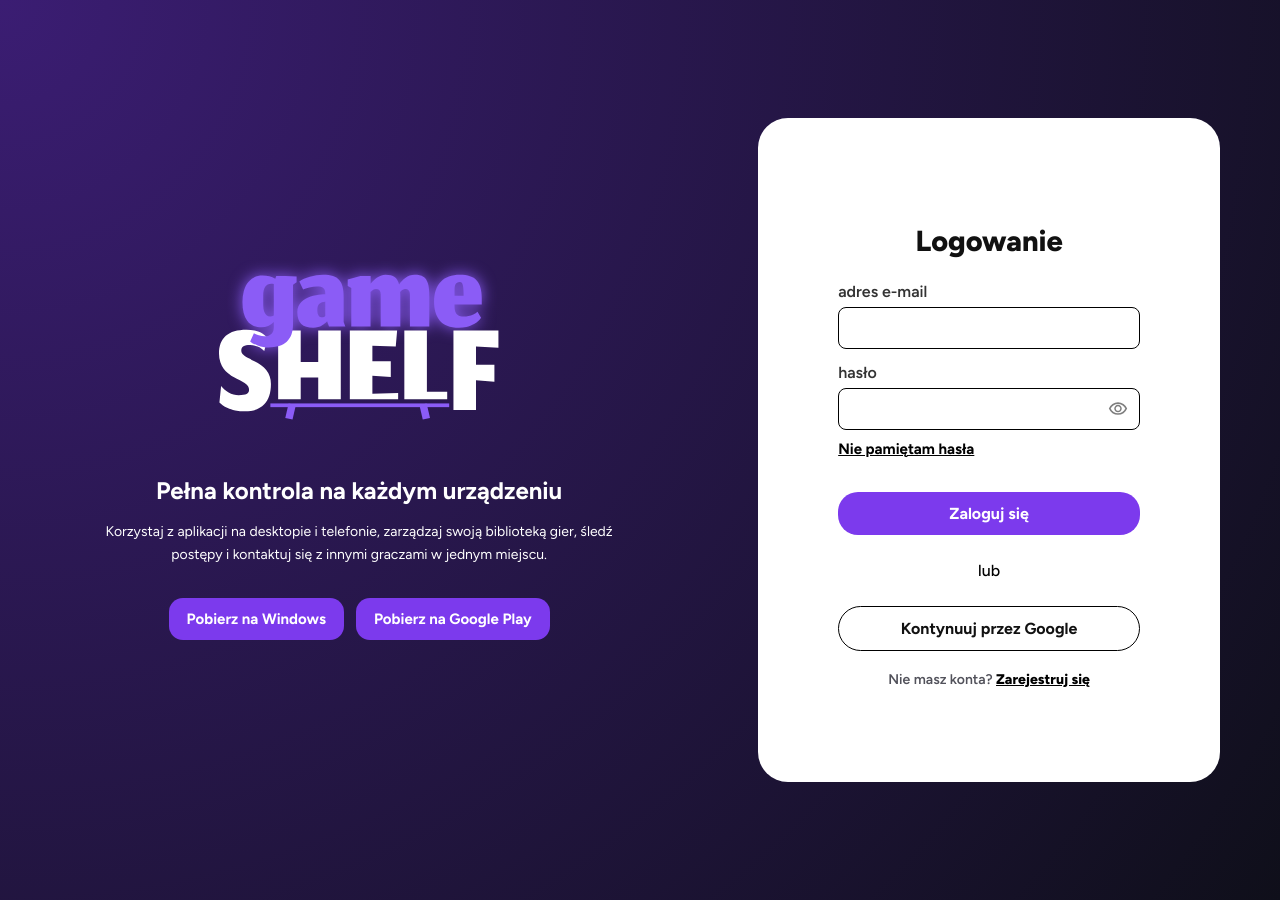
Test: LoginPage › pokazuje błąd, gdy token jest nieważny
Type "user@example.com" into the field at [989, 328], box [838,306,1140,348]
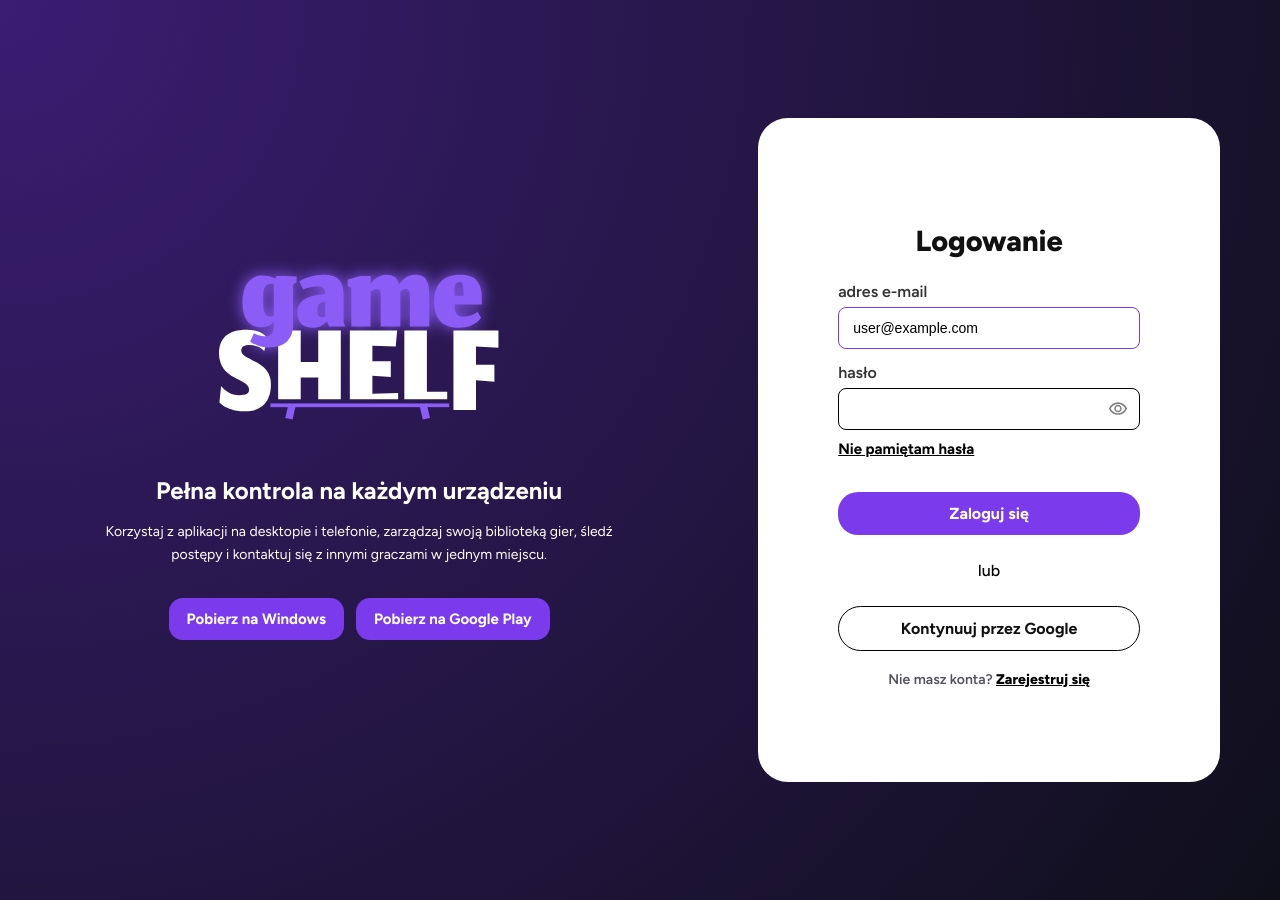
Type "Password1!" into the password field at [989, 408], box [838,388,1140,430]
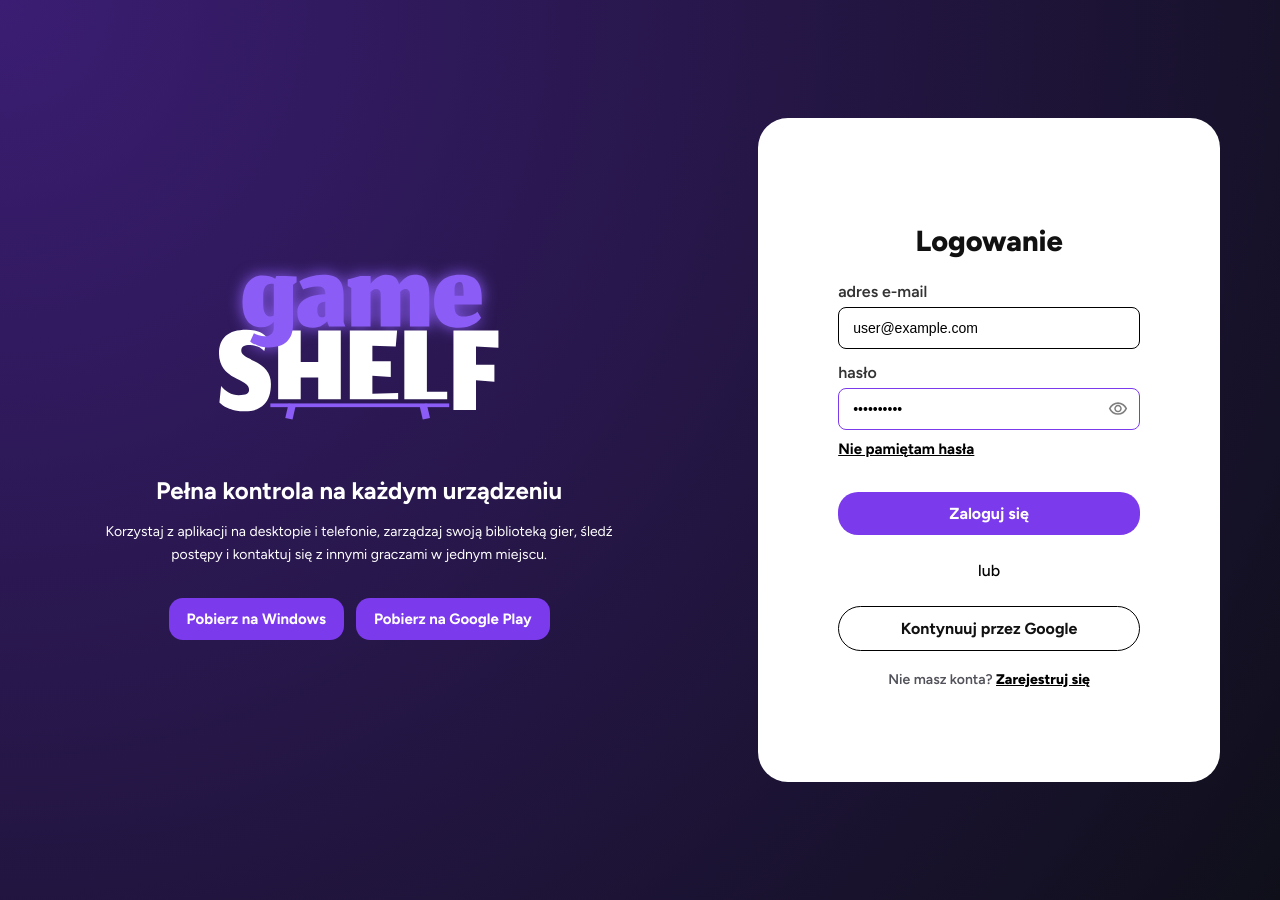
Click the button "Zaloguj się" at [989, 513], box [838,492,1140,534]
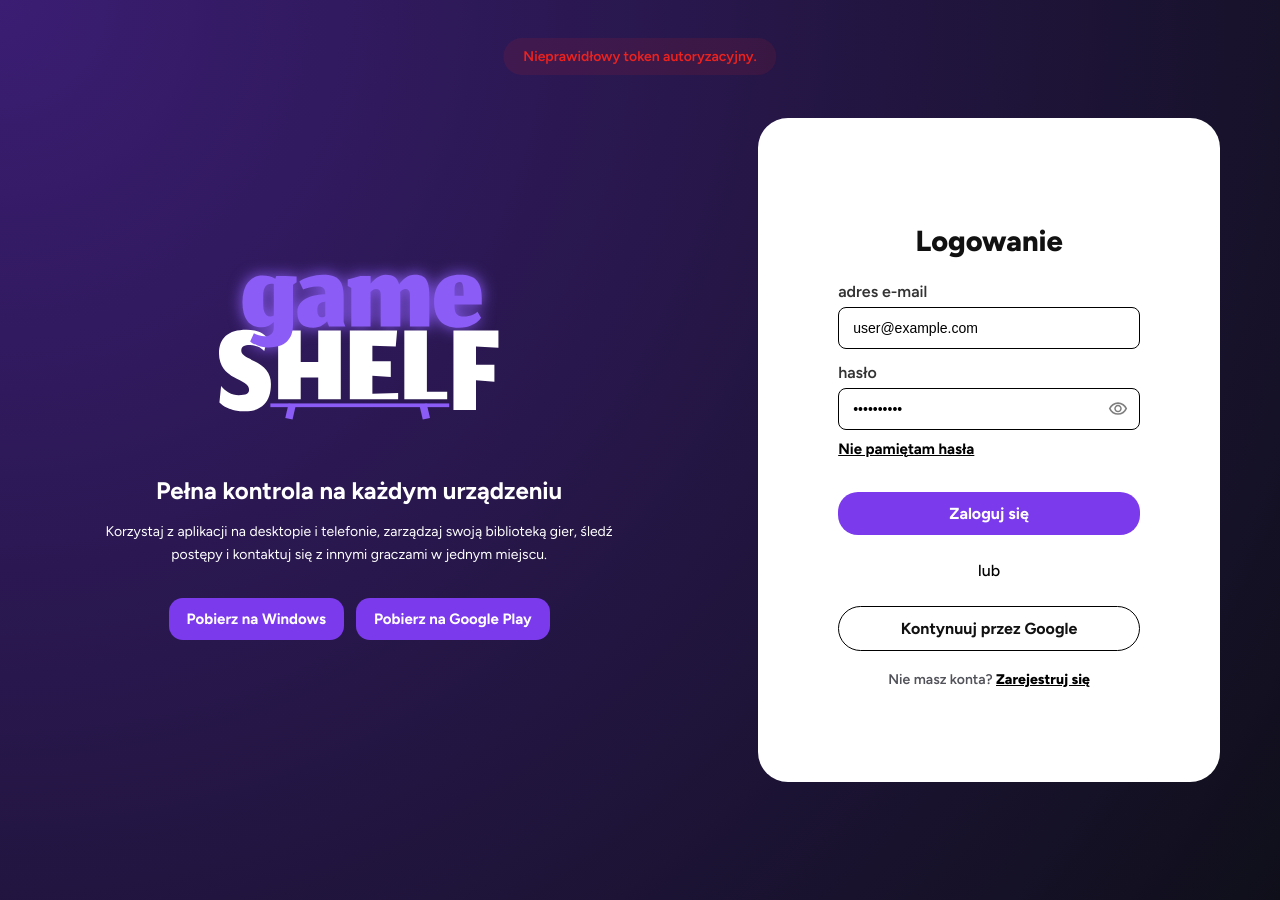
Expected: the text "Nieprawidłowy token autoryzacyjny." is shown, [503,38,777,75]
